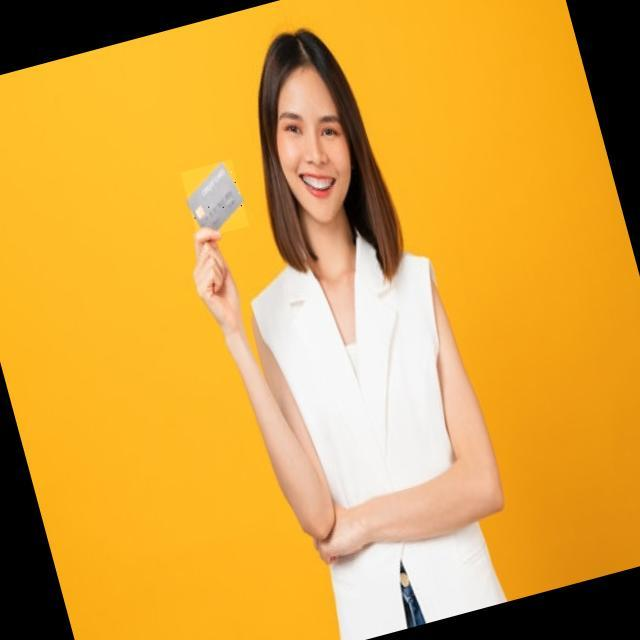payment_card: (181, 161, 245, 234)
